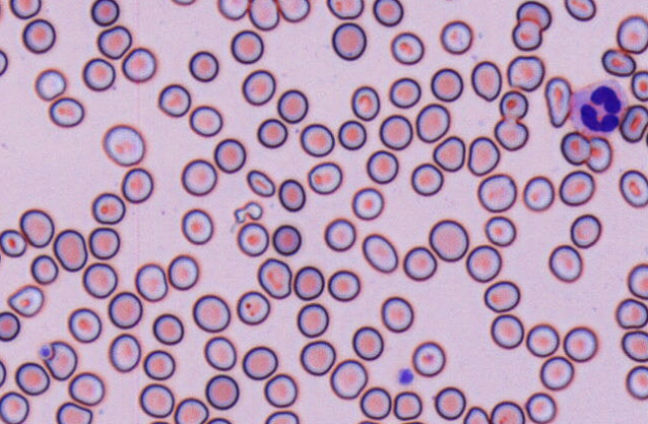GRAN: (570, 79, 632, 137)
PLT: (398, 368, 415, 386), (39, 346, 51, 357)
RBC: (102, 124, 144, 166), (428, 219, 468, 261), (329, 358, 367, 399), (477, 173, 516, 212), (53, 228, 88, 271), (192, 293, 230, 332), (361, 233, 398, 273), (257, 257, 292, 299), (415, 102, 450, 142), (558, 169, 595, 206), (465, 244, 501, 282), (506, 55, 544, 91), (181, 158, 217, 196), (19, 208, 54, 247), (467, 135, 500, 176), (548, 244, 583, 282), (107, 291, 142, 329), (331, 22, 366, 60), (134, 262, 168, 301), (470, 60, 502, 101), (138, 382, 174, 418), (563, 325, 598, 362), (108, 333, 141, 372), (616, 14, 648, 54), (96, 24, 132, 59), (68, 371, 104, 406), (299, 340, 335, 375), (82, 262, 117, 298), (242, 345, 278, 380), (121, 46, 156, 82), (539, 355, 574, 390), (14, 361, 50, 395), (205, 374, 239, 410), (402, 245, 436, 281), (67, 307, 101, 343), (411, 340, 445, 376), (241, 69, 275, 105), (22, 18, 56, 53), (236, 290, 270, 325), (490, 314, 524, 349), (432, 135, 465, 171), (380, 296, 413, 332), (213, 137, 246, 173), (379, 114, 412, 150), (483, 280, 520, 312), (167, 253, 199, 290), (494, 117, 528, 151), (263, 373, 297, 407), (525, 323, 559, 357), (203, 335, 236, 370), (296, 302, 329, 337), (307, 161, 342, 194), (230, 29, 263, 64), (299, 123, 334, 156), (121, 167, 153, 203), (522, 175, 554, 211), (181, 208, 213, 244), (618, 169, 648, 207), (619, 104, 648, 143), (82, 57, 115, 91), (410, 162, 443, 196), (236, 222, 269, 256), (351, 186, 384, 220), (157, 83, 190, 117), (430, 67, 463, 101), (390, 31, 424, 64), (351, 325, 383, 360), (366, 149, 398, 184), (569, 213, 601, 248), (48, 96, 84, 127), (433, 386, 465, 420), (324, 217, 356, 251), (440, 20, 472, 54), (91, 192, 125, 224), (293, 265, 324, 300), (277, 88, 308, 123), (615, 297, 648, 329), (359, 386, 391, 419), (327, 269, 360, 301), (88, 226, 120, 259), (189, 104, 222, 136), (516, 0, 551, 30), (560, 130, 590, 165), (350, 85, 380, 120), (34, 68, 66, 100), (152, 313, 184, 345), (511, 18, 542, 51), (142, 349, 175, 380), (388, 77, 421, 108), (484, 215, 516, 246), (601, 48, 636, 76), (585, 136, 612, 172), (525, 392, 556, 423), (188, 50, 218, 82), (0, 390, 29, 423), (248, 0, 279, 30), (256, 118, 287, 148), (174, 397, 208, 424), (392, 390, 422, 420), (499, 89, 528, 120), (337, 119, 366, 150), (272, 224, 301, 255), (278, 178, 305, 211), (30, 253, 58, 284), (621, 330, 648, 362), (55, 401, 92, 423), (246, 169, 275, 197), (372, 0, 403, 26), (625, 365, 648, 400), (490, 400, 524, 423), (627, 262, 648, 299), (0, 228, 26, 257), (90, 0, 119, 26), (276, 0, 310, 22), (326, 0, 364, 19), (563, 0, 596, 21), (0, 310, 20, 341), (217, 0, 248, 20), (9, 0, 41, 19), (630, 70, 648, 101), (263, 410, 299, 424), (462, 405, 489, 423), (0, 48, 8, 76), (204, 416, 232, 424), (0, 358, 6, 388), (170, 0, 198, 6), (355, 419, 384, 424), (146, 419, 171, 424), (397, 420, 427, 424), (0, 0, 4, 23), (645, 120, 648, 149), (0, 249, 2, 277), (435, 0, 462, 2)
Schistocyte: (44, 341, 78, 382), (546, 76, 571, 128), (6, 286, 45, 319), (234, 202, 263, 224)
